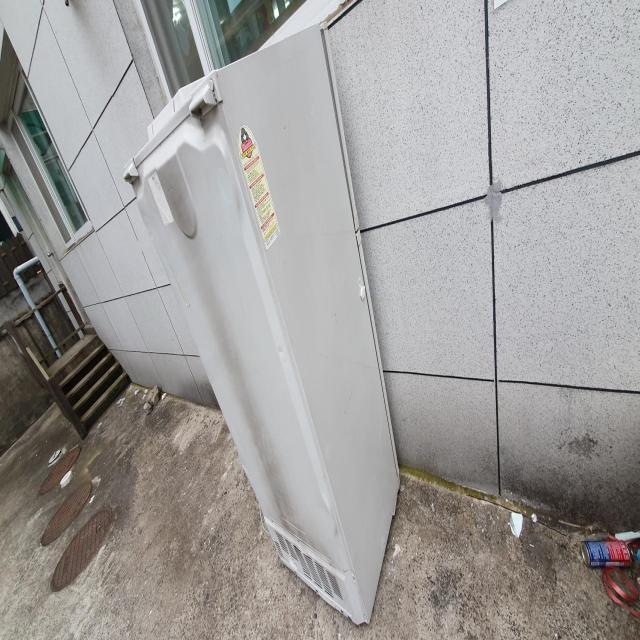refrigerator: (123, 21, 404, 626)
